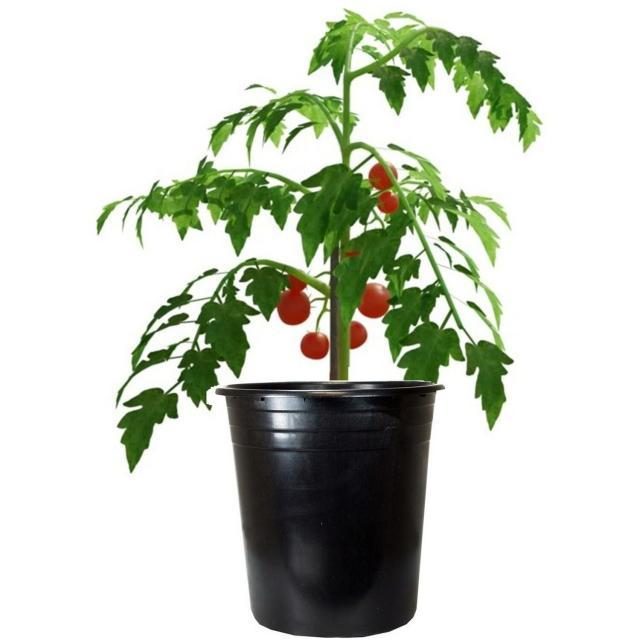tomato: (93, 11, 544, 473)
